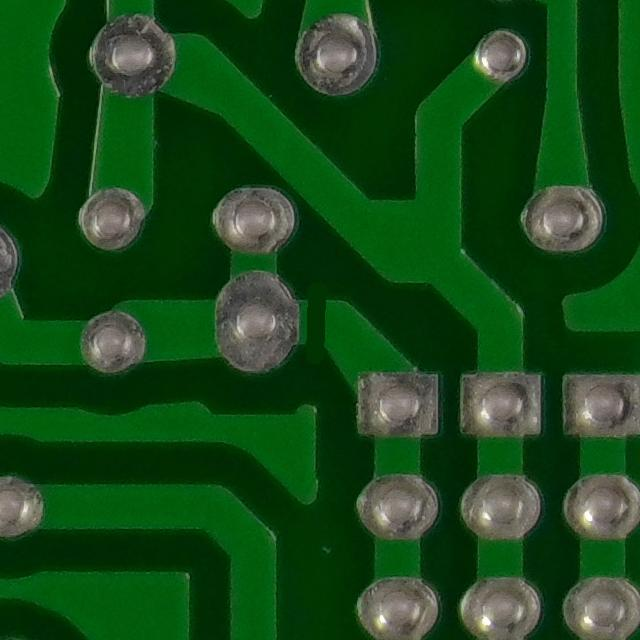open_circuit: (292, 279, 349, 362)
